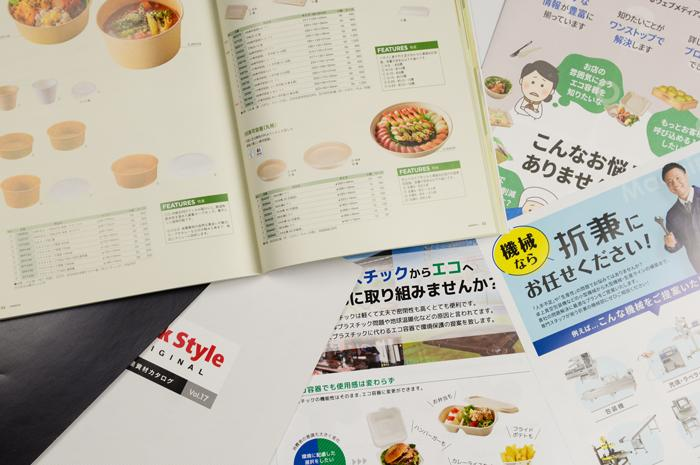paper: (227, 0, 699, 464), (218, 0, 495, 269)
